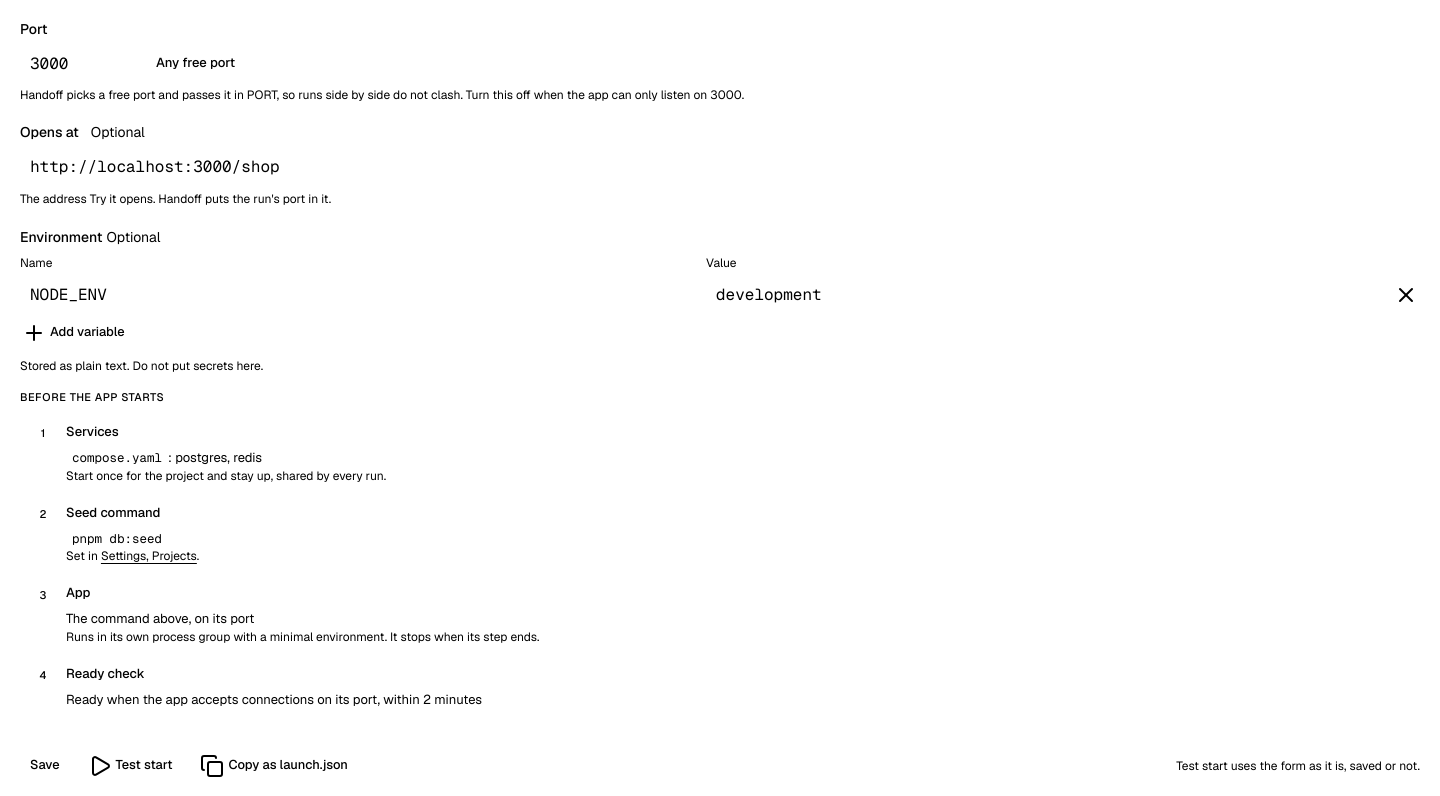
Copy as launch.json copies the form as a file to commit
(page scrolled)
Click the button "Copy as launch.json".
click(274, 766)  # box [190, 752, 358, 780]
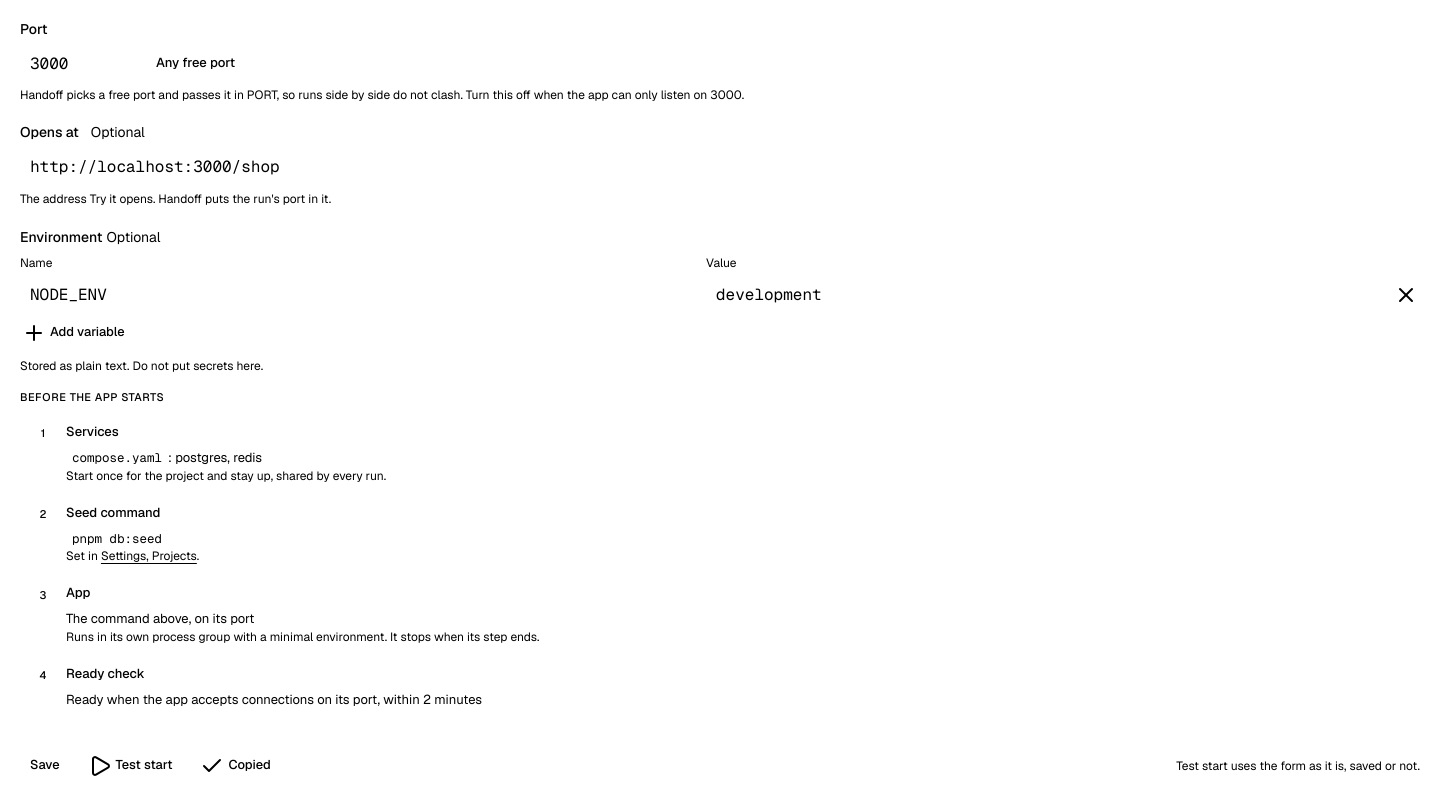
Result: the button "Copied" is shown at [190, 752, 281, 780]
